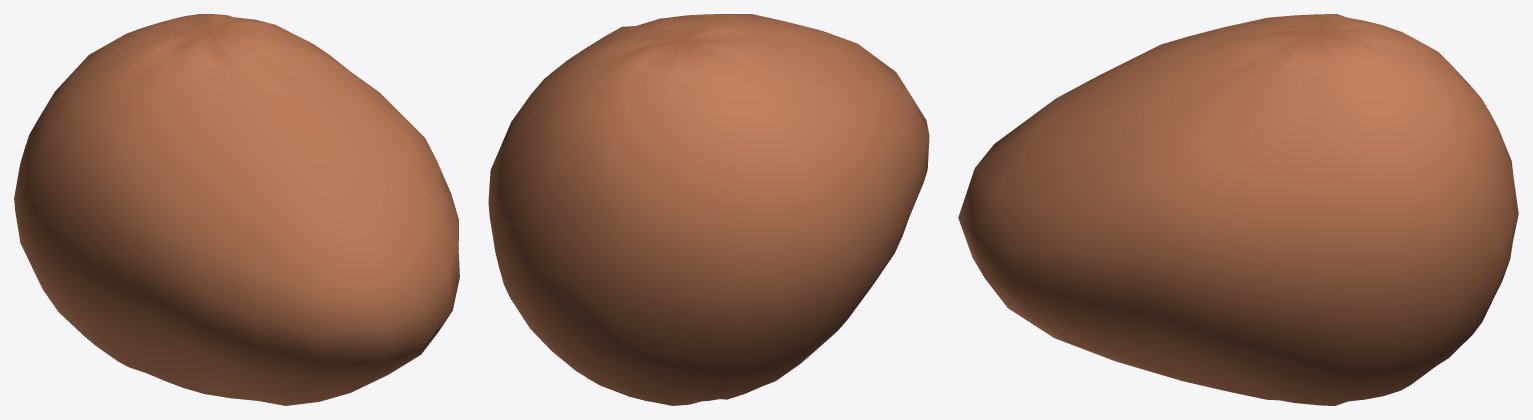
File: Avocado_Seed.fbx
The picture shows the model from 3 angles, left to right: view 1: azimuth 30°, elevation 25°; view 2: azimuth 150°, elevation 25°; view 3: azimuth 270°, elevation 25°; orthographic projection. The views are drawn at different scales.
Visible parts, largest first — view 1: Sphere.009; view 2: Sphere.009; view 3: Sphere.009.
Part boxes in pixels (box(x1,y1,x2,y2)): Sphere.009: box(14, 14, 459, 405); Sphere.009: box(488, 14, 929, 405); Sphere.009: box(958, 14, 1518, 405).
Bounding box in the file's own units: 59.18 × 54.79 × 78.57.
